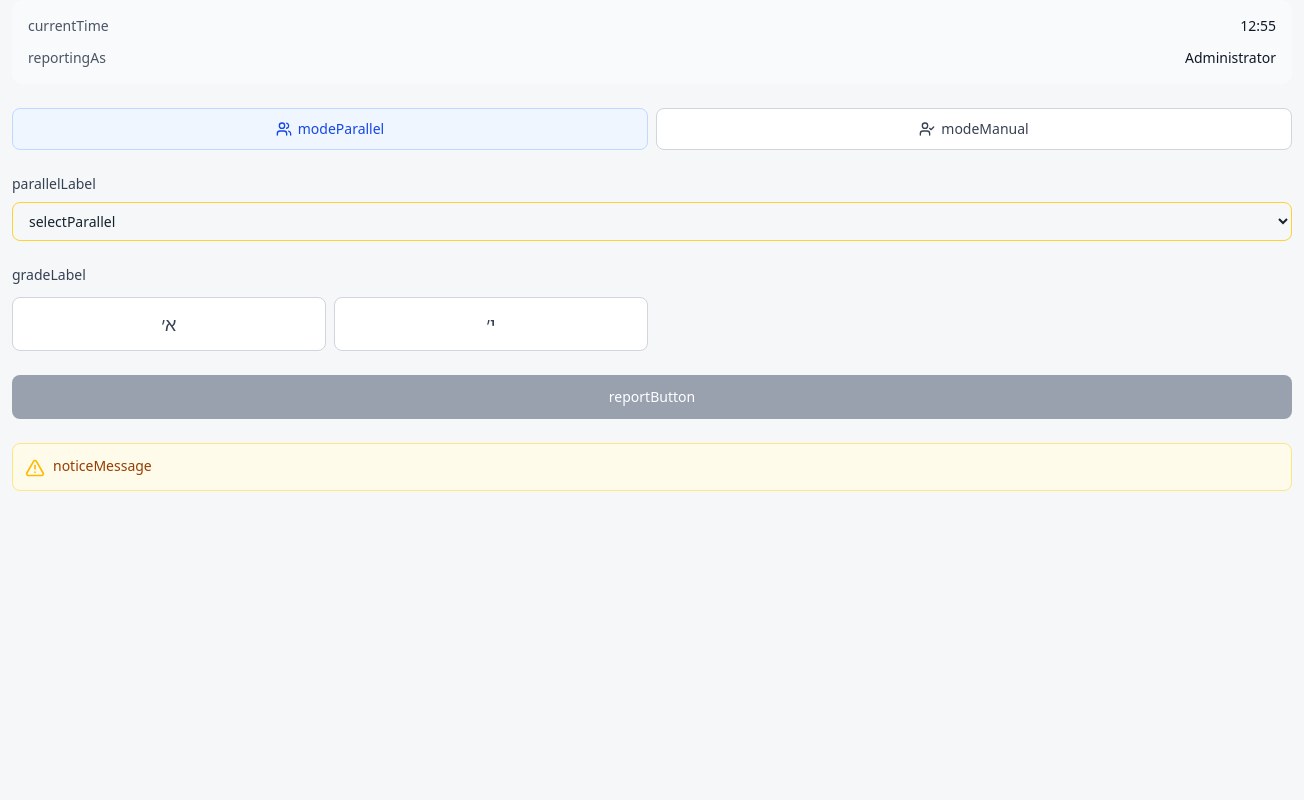
Test case: ManagementReportForm › selects grade that does not need profile and shows time after class selection
Select grade 'alef' (doesn't need profile)
Click the button with test id "select-parallel" showing "א׳" at (169, 324), box [12,297,326,351]
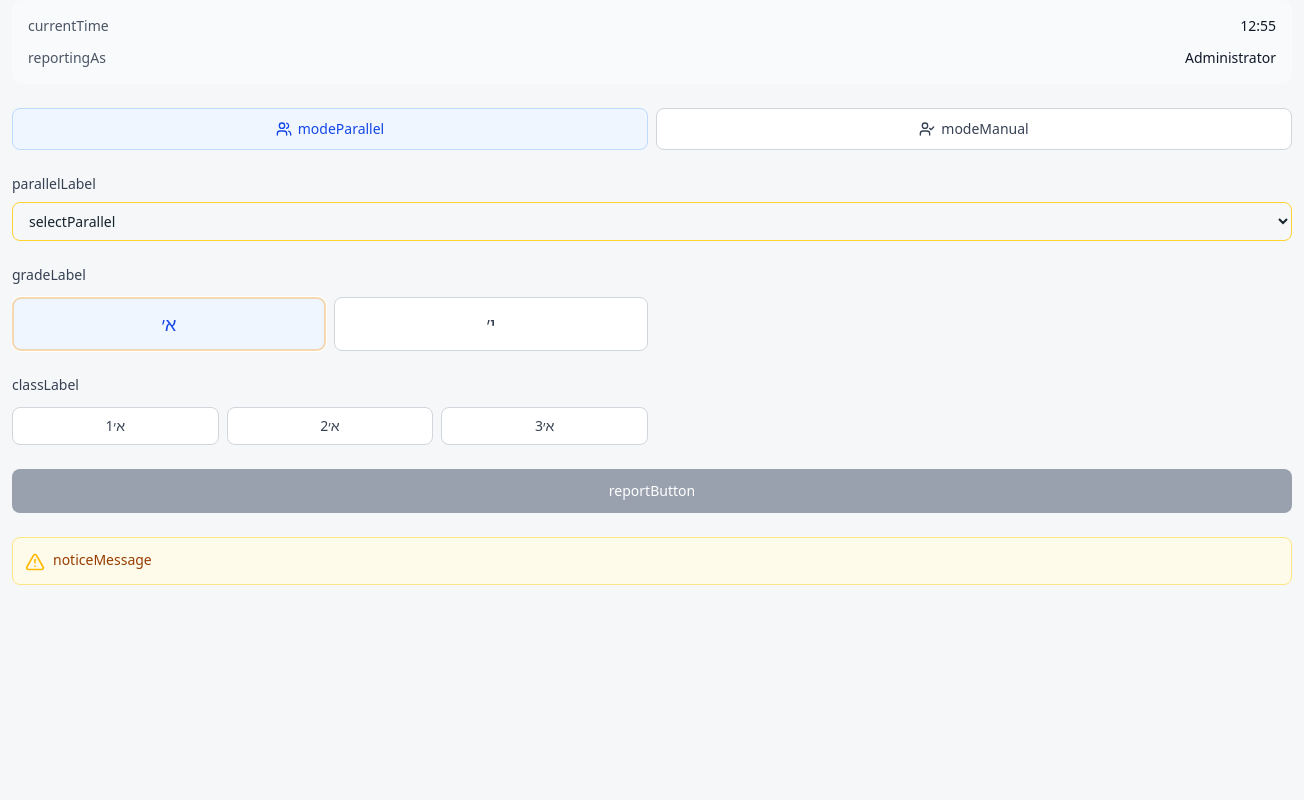
Select class number
Click the button "א׳1" at (115, 426), box [12,407,219,445]
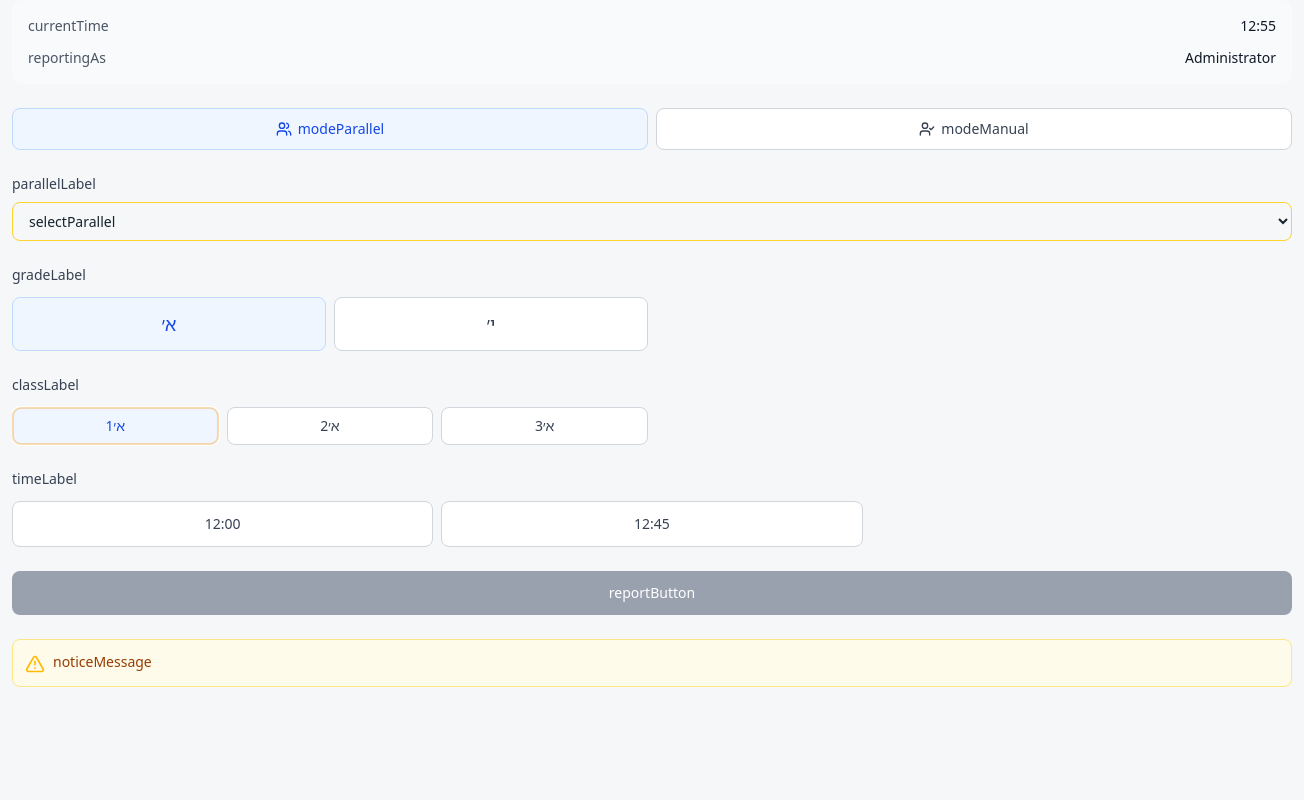
Now the text "timeLabel" is shown, box [12,469,77,488]
